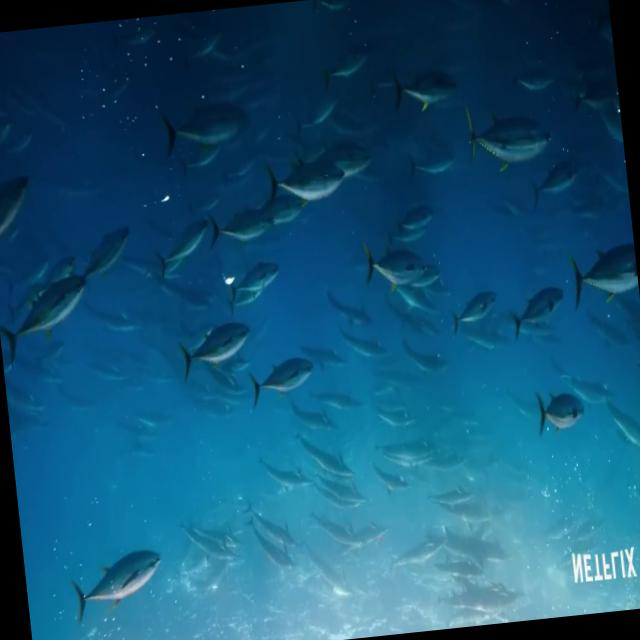fish: (0, 272, 93, 364), (70, 550, 166, 625), (465, 100, 554, 176), (261, 146, 349, 212), (158, 98, 248, 159), (177, 317, 254, 378), (570, 242, 640, 307), (246, 354, 318, 415), (390, 64, 462, 112), (206, 202, 276, 251), (362, 238, 430, 288), (536, 384, 588, 437)
